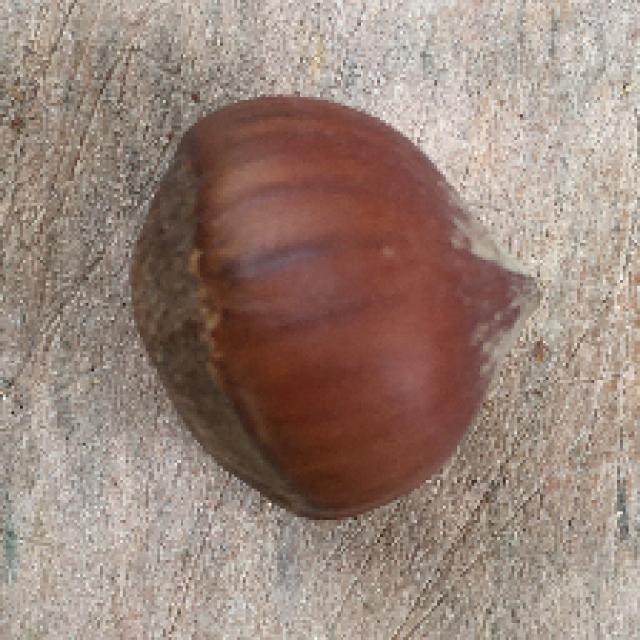qualityHazelnut: (130, 93, 551, 527)
